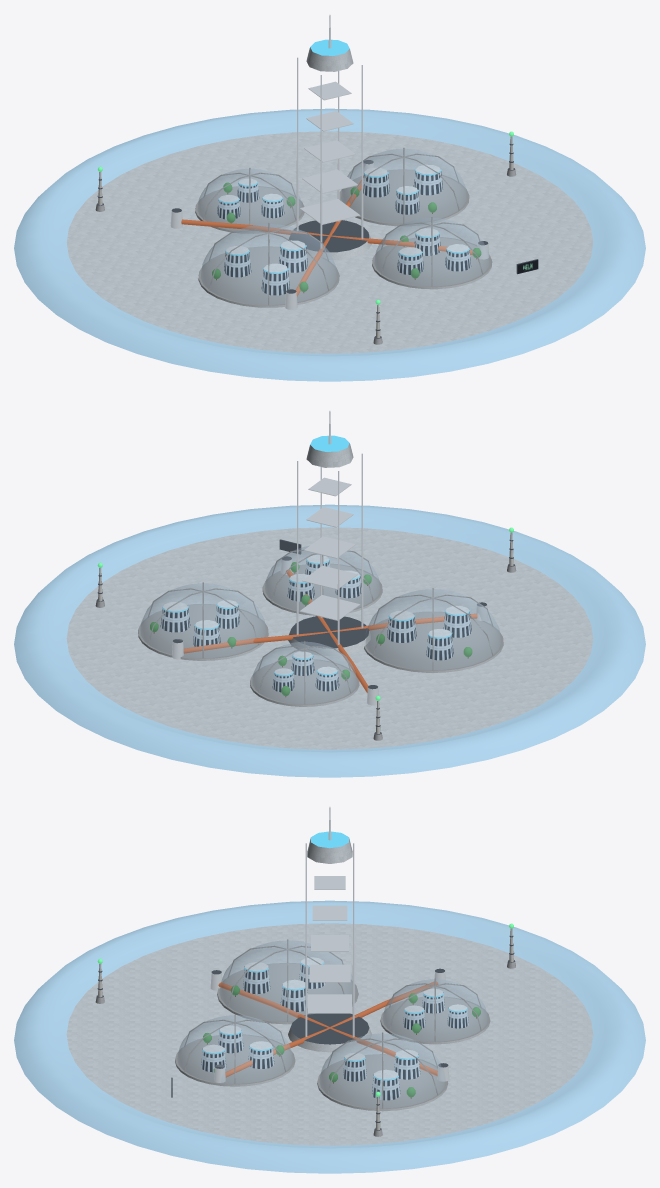
The model's file is europa_drill_town.glb.
3 renders of one model, top to bottom at view 1: azimuth 30°, elevation 25°; view 2: azimuth 150°, elevation 25°; view 3: azimuth 270°, elevation 25°, orthographic.
Visible parts, largest first — view 1: europa_drill_town_LOD0; view 2: europa_drill_town_LOD0; view 3: europa_drill_town_LOD0.
Boxes of the visible parts, box(x1,y1,x2,y2) form: europa_drill_town_LOD0: box(14, 15, 645, 381); europa_drill_town_LOD0: box(14, 411, 645, 777); europa_drill_town_LOD0: box(14, 807, 645, 1173).
Size of what is drawn, in the model's own units: 120 by 51 by 120.
4 materials, 3 textured.
